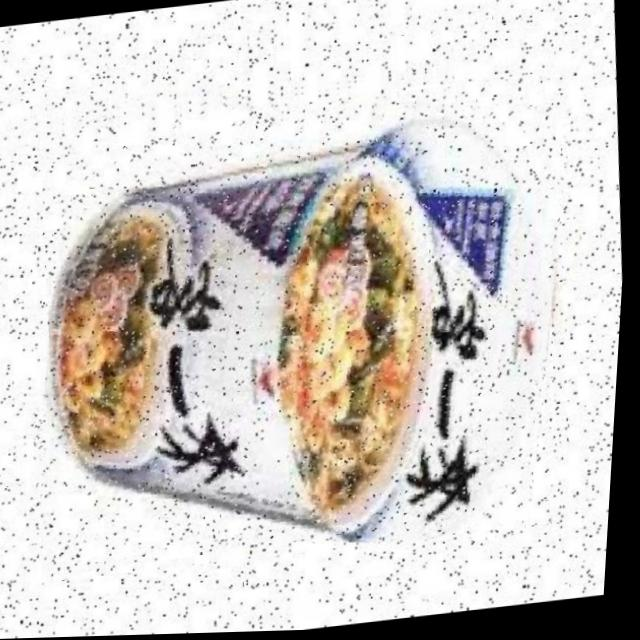Miscellaneous: (5, 56, 598, 584)
